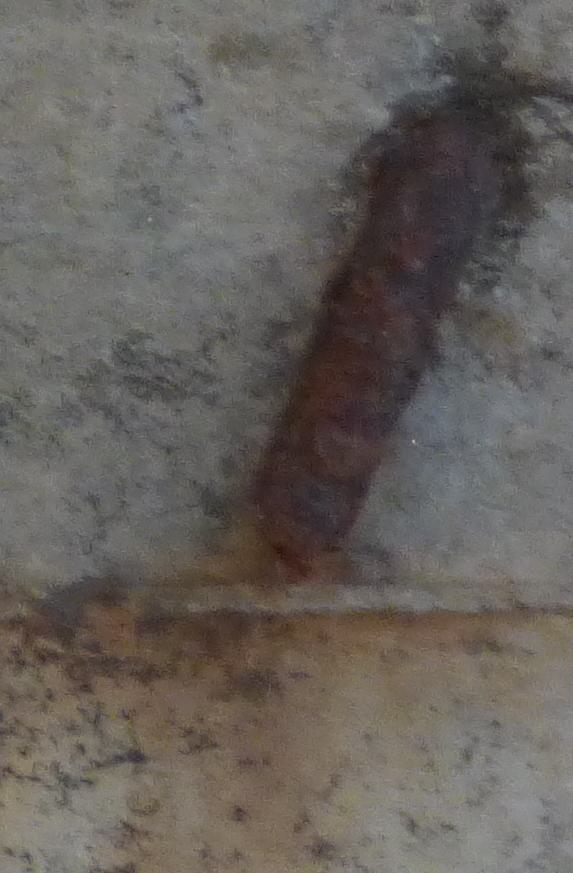Corrosion: (1, 582, 573, 873)
Exposed reinforcement: (251, 110, 500, 575)
